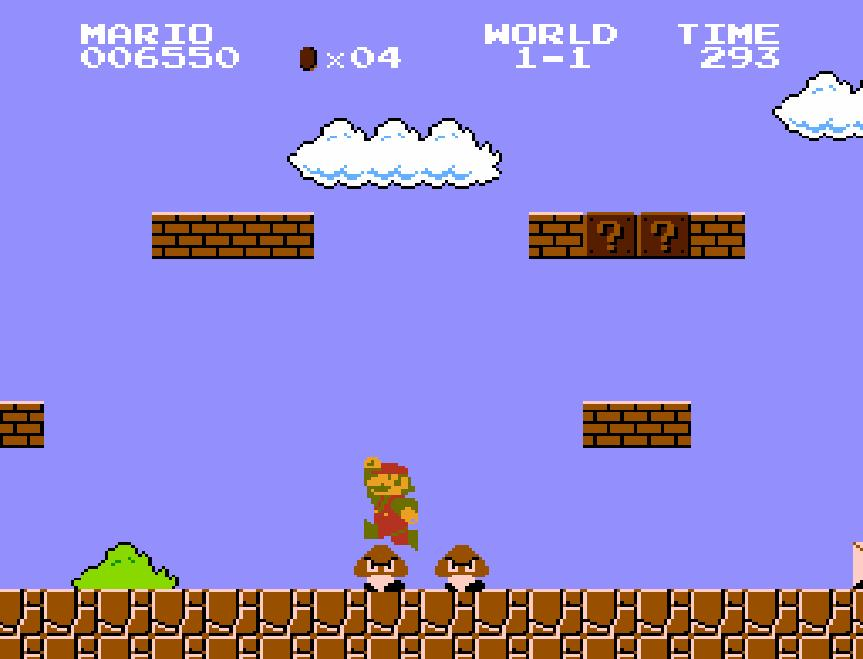big_mario: (362, 455, 420, 553)
